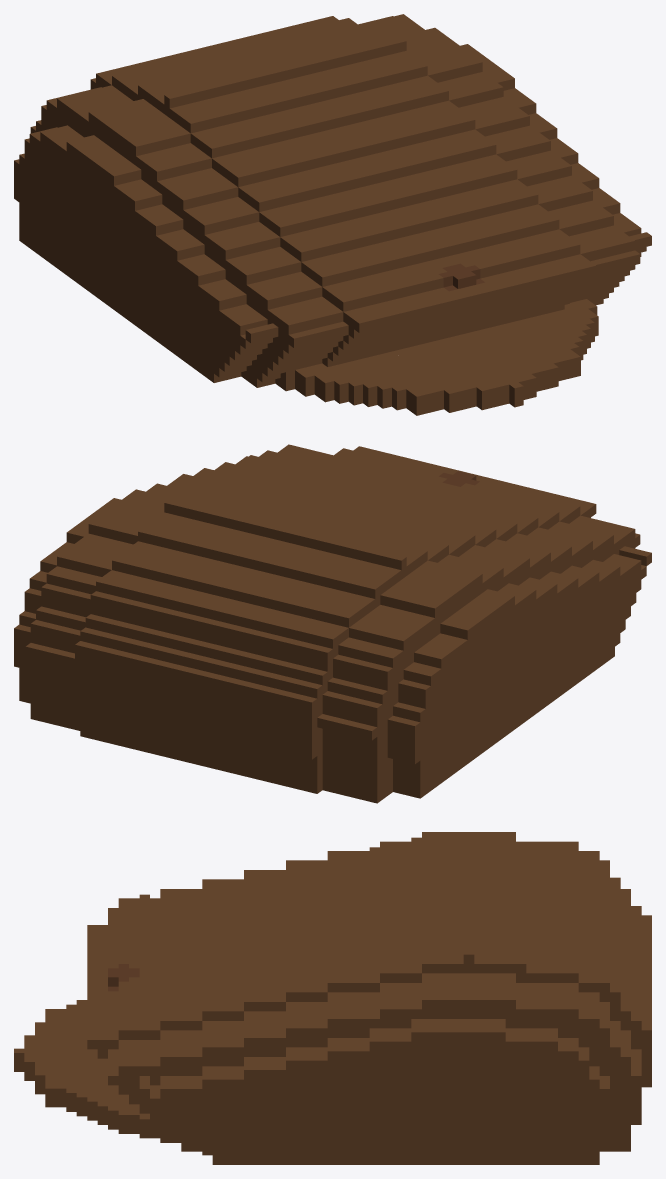
Rendered from hat_golf.glb.
The picture shows the model from 3 angles, top to bottom: view 1: azimuth 30°, elevation 25°; view 2: azimuth 150°, elevation 25°; view 3: azimuth 270°, elevation 25°; orthographic projection.
Visible parts, largest first — view 1: hat_golf:compound; view 2: hat_golf:compound; view 3: hat_golf:compound.
Part boxes in pixels (x1,y1,x2,y2): hat_golf:compound: [14, 14, 651, 415]; hat_golf:compound: [14, 444, 651, 803]; hat_golf:compound: [14, 832, 651, 1164].
Bounding box in the file's own units: 0.176 × 0.072 × 0.244.
